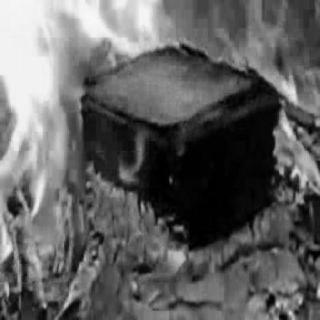Fire: (3, 9, 311, 280)
